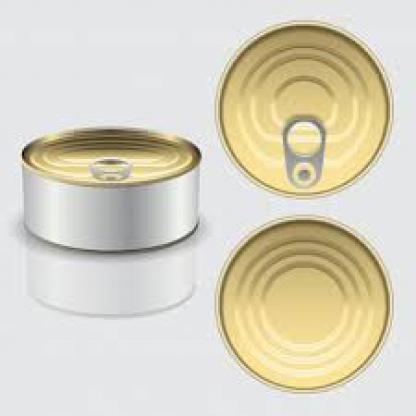Compsot: (214, 18, 392, 198), (214, 214, 392, 392), (20, 126, 200, 253)
